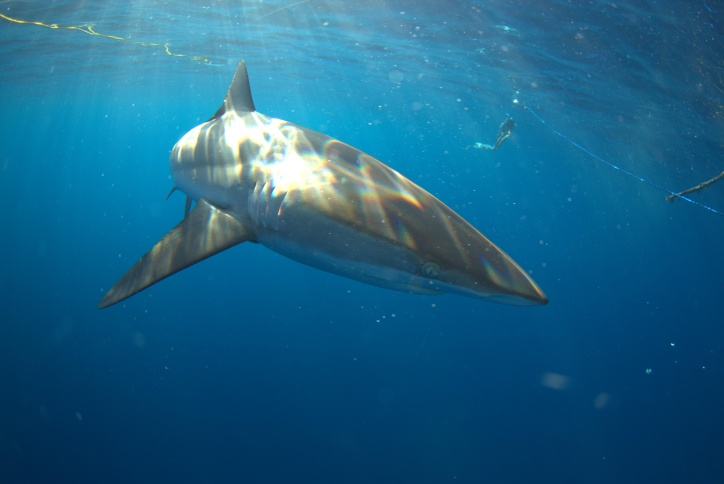Sedoso: (92, 56, 583, 335)
